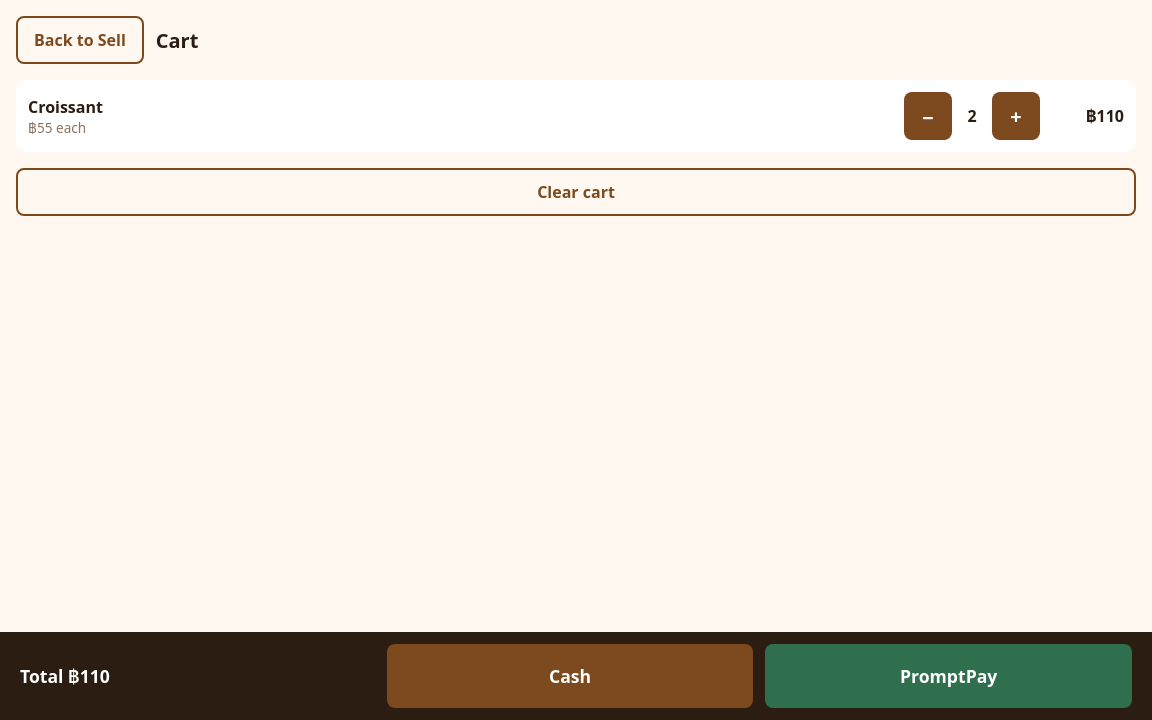
Test case: CartScreen › (g) under StrictMode, one + tap adds exactly 1
Click the button named "Add one Croissant" at [1016, 116], box [992,92,1040,140]
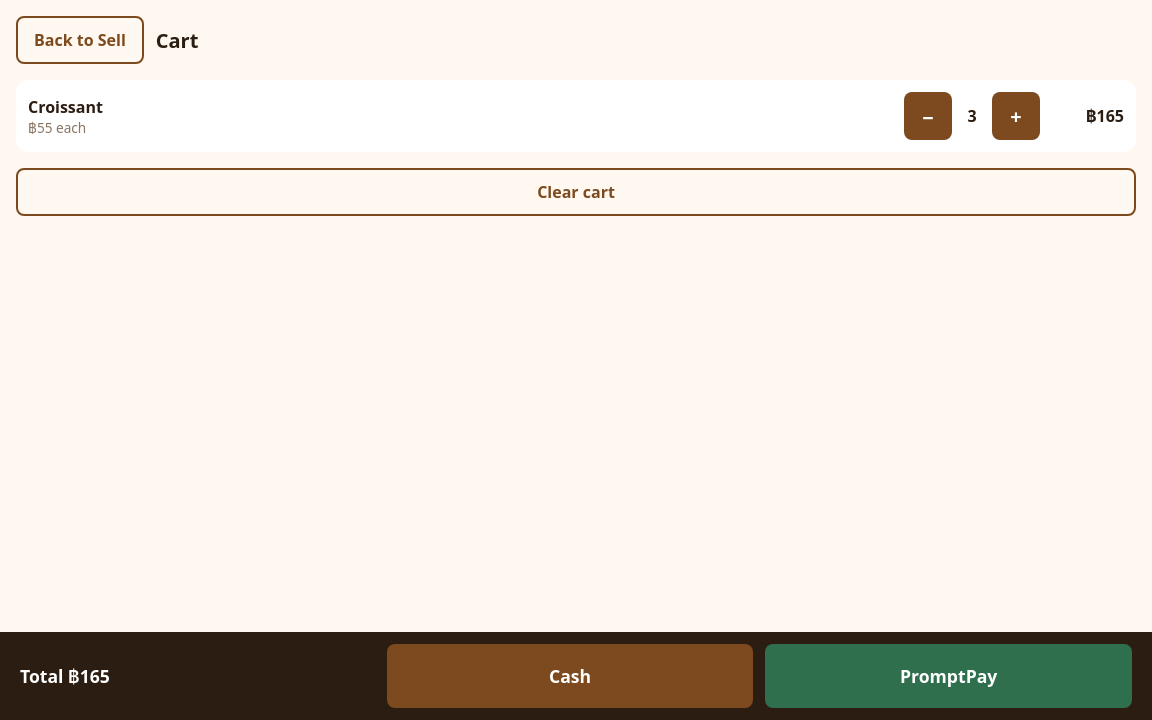
Now the text with class "cart-bottom-bar-total" reads "Total ฿165", box [20,664,110,688]
Now the text with class "cart-line-qty" reads "3", box [967,105,977,127]
